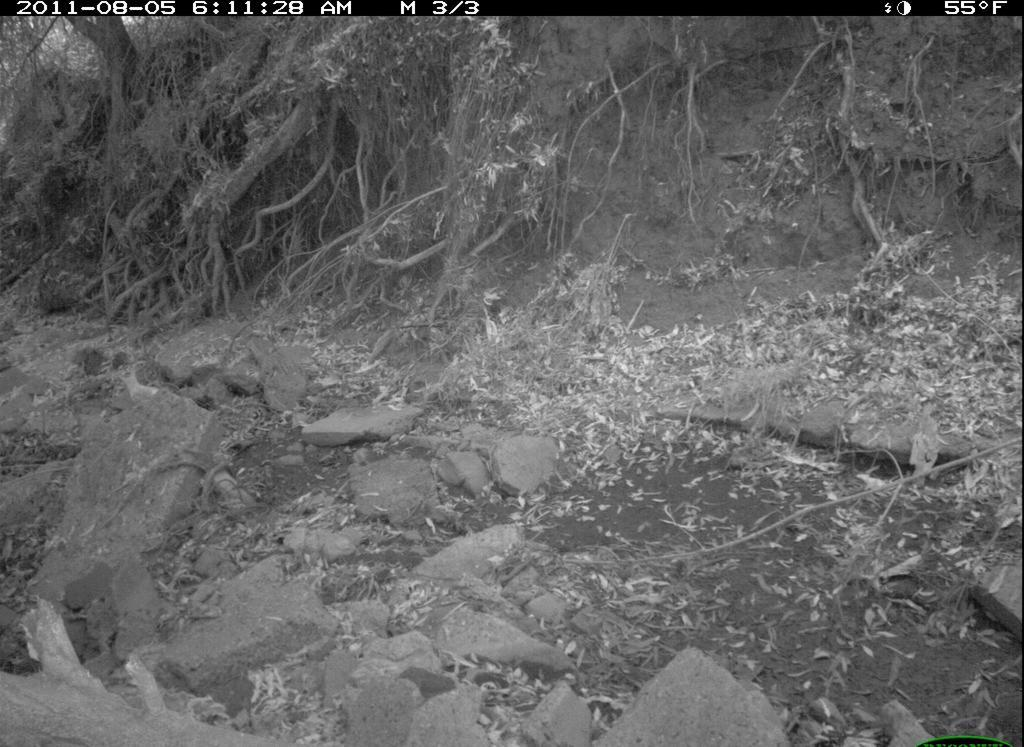cat: (117, 367, 171, 413)
